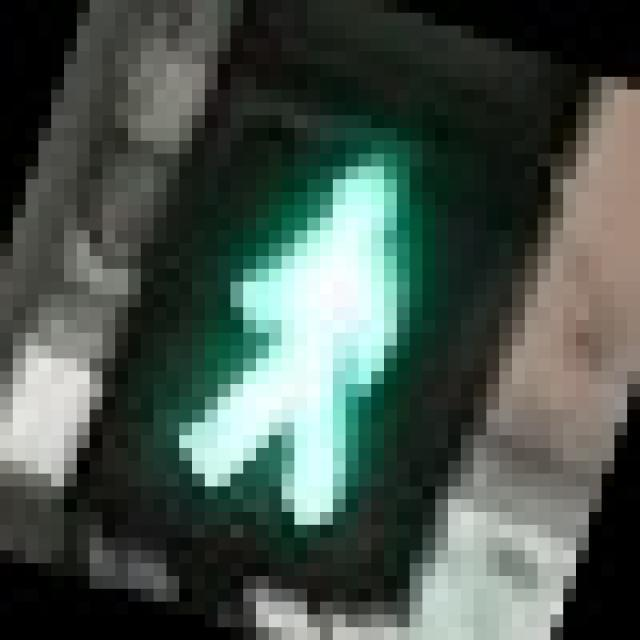green_light: (90, 52, 500, 550)
